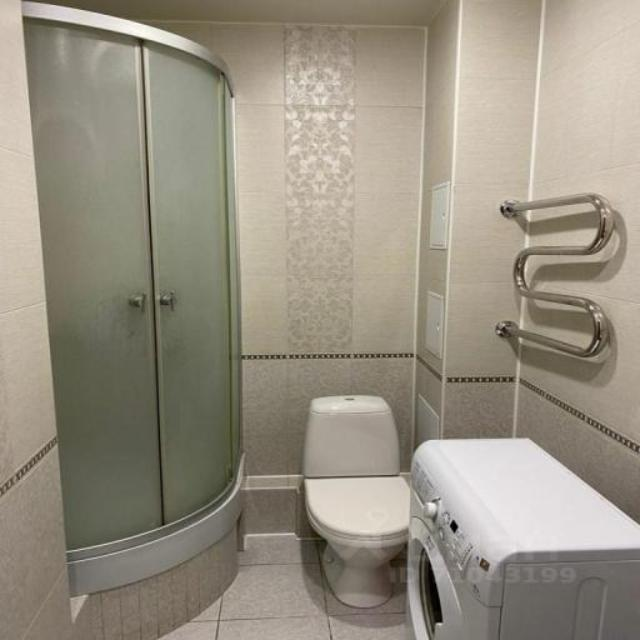Washing-Machine: (404, 439, 640, 639)
